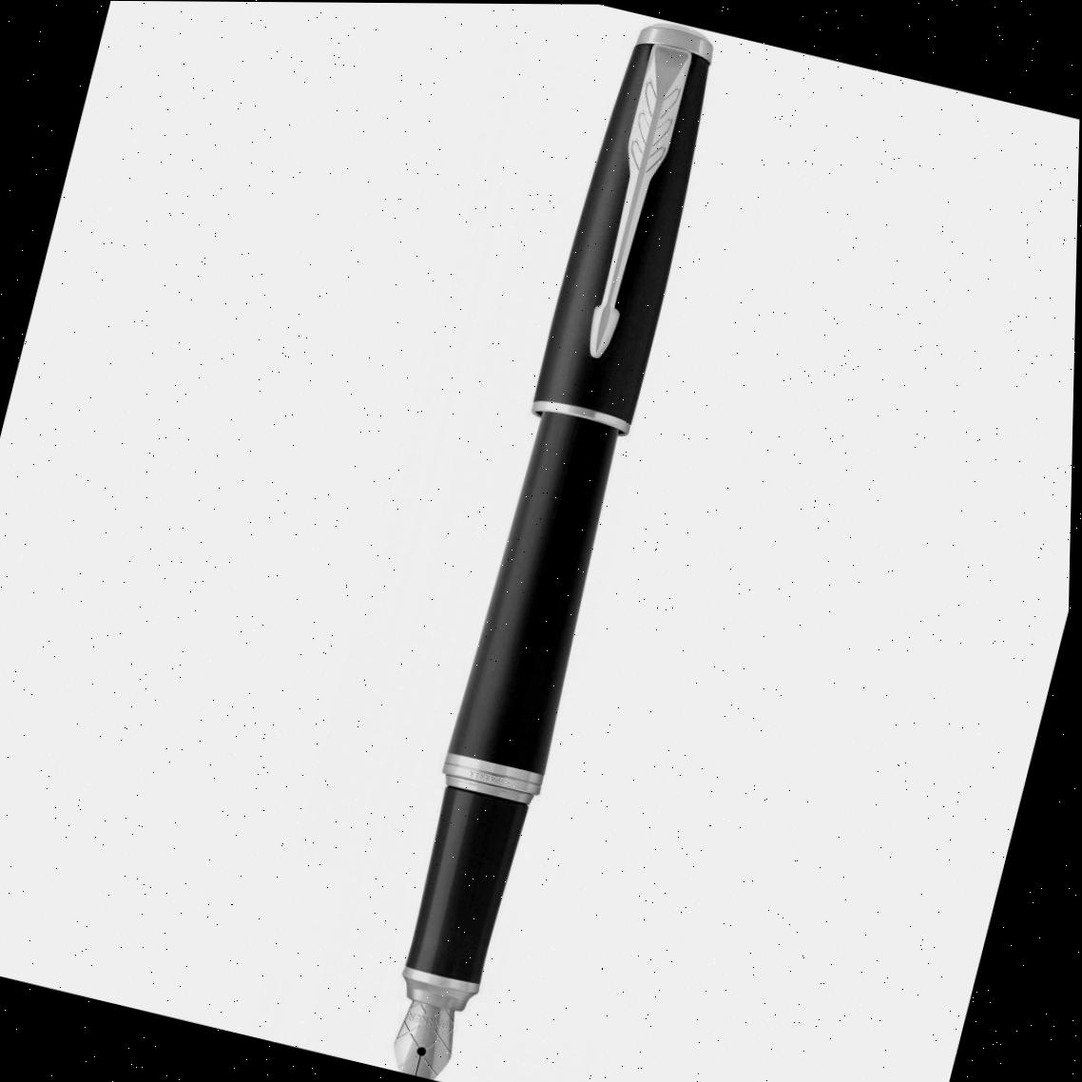pen-pencil: (395, 25, 711, 1080)
